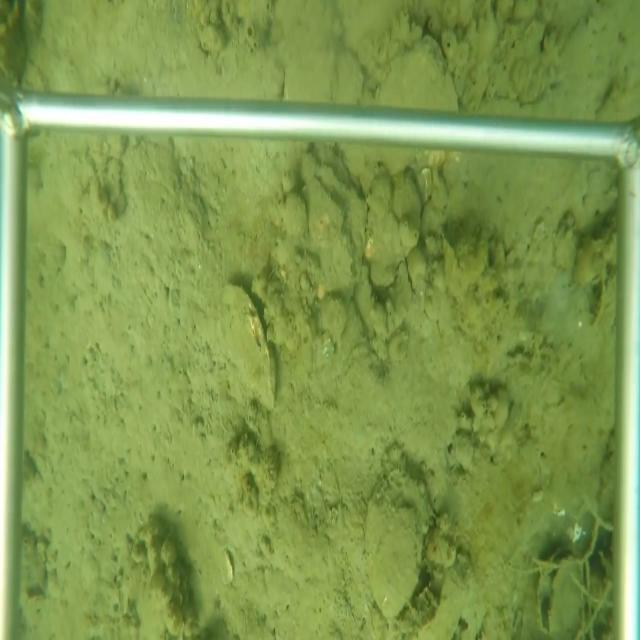Oyster-Closed: (365, 432, 439, 627), (373, 33, 464, 109)
Oyster-Indeterminate: (214, 278, 281, 414), (281, 32, 368, 106), (366, 166, 421, 254), (303, 174, 344, 242), (367, 210, 402, 288), (318, 228, 356, 299), (383, 259, 414, 337), (441, 235, 467, 303), (589, 278, 609, 331)
Oyster-Open: (534, 541, 588, 635)
